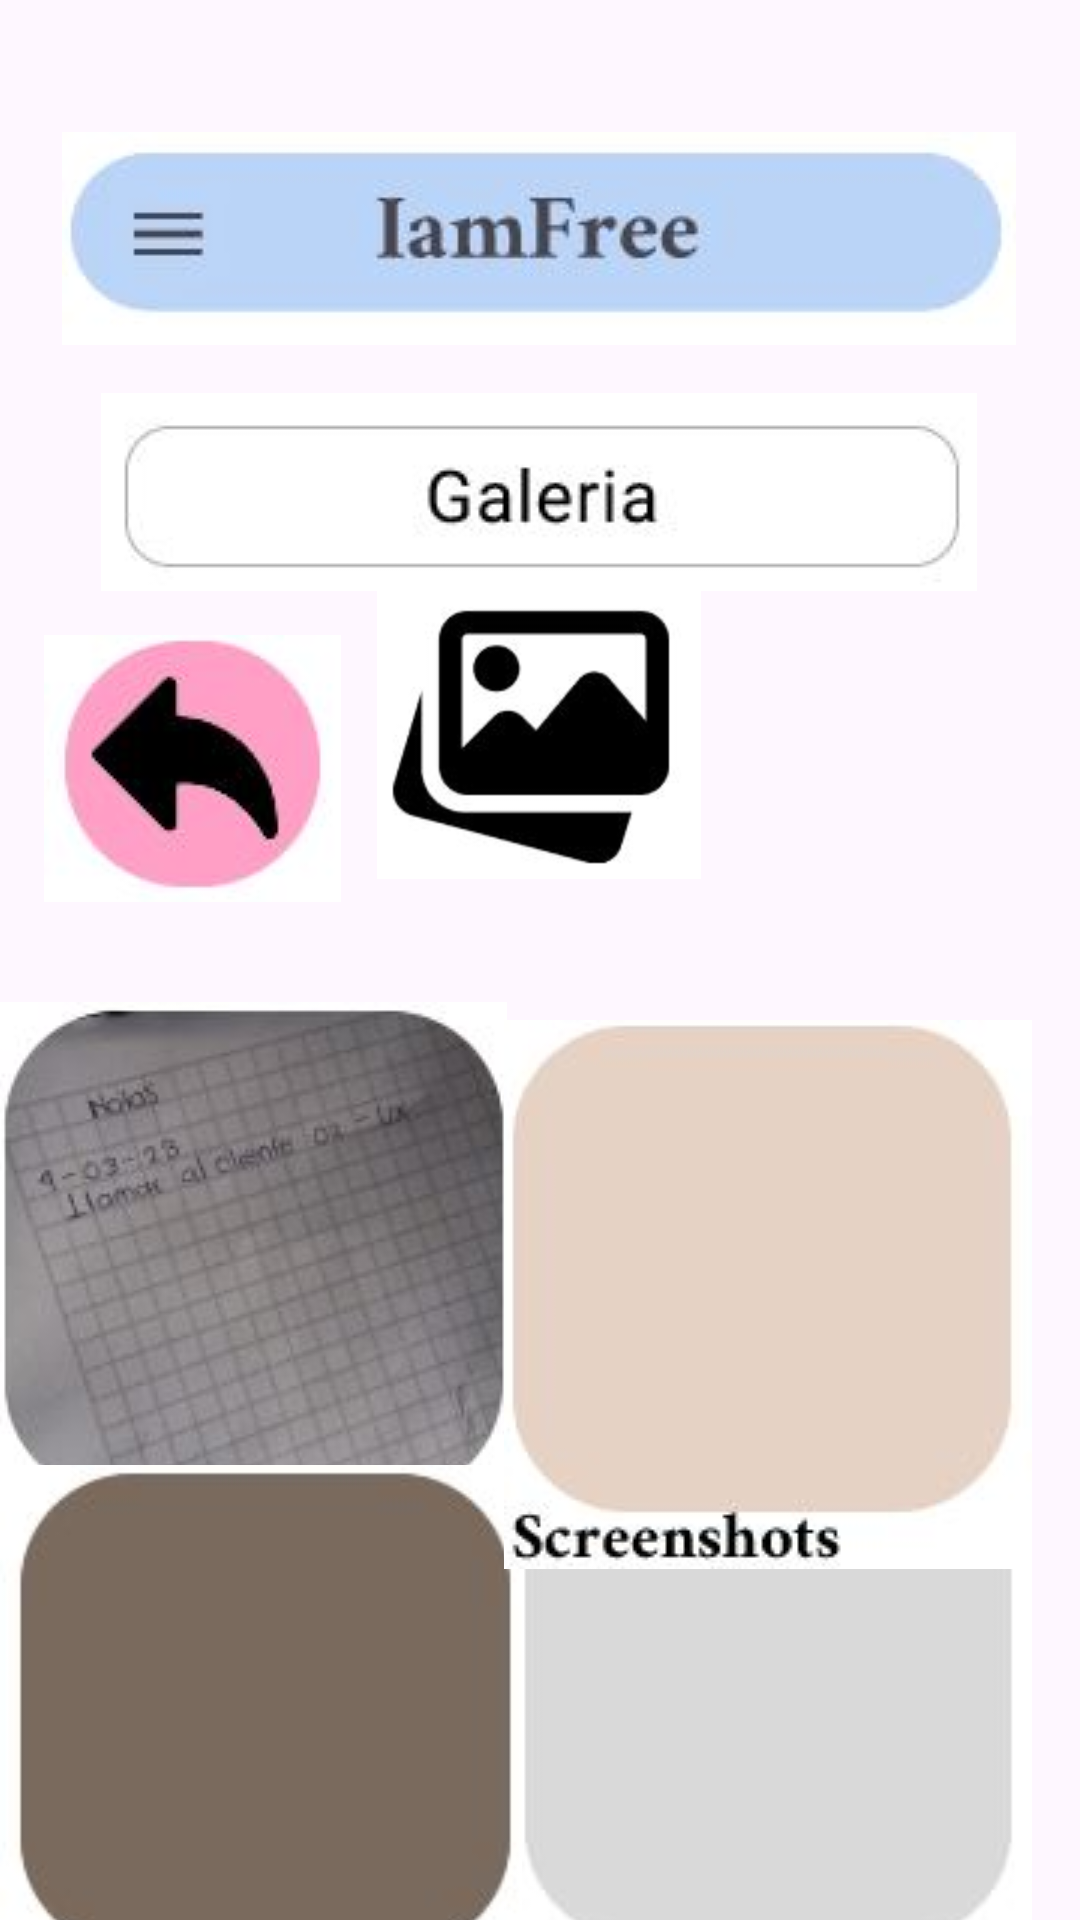

Named icons in this screenshot (1080w x 1920h) and their centers, (x,y):
atras: (192,764)
